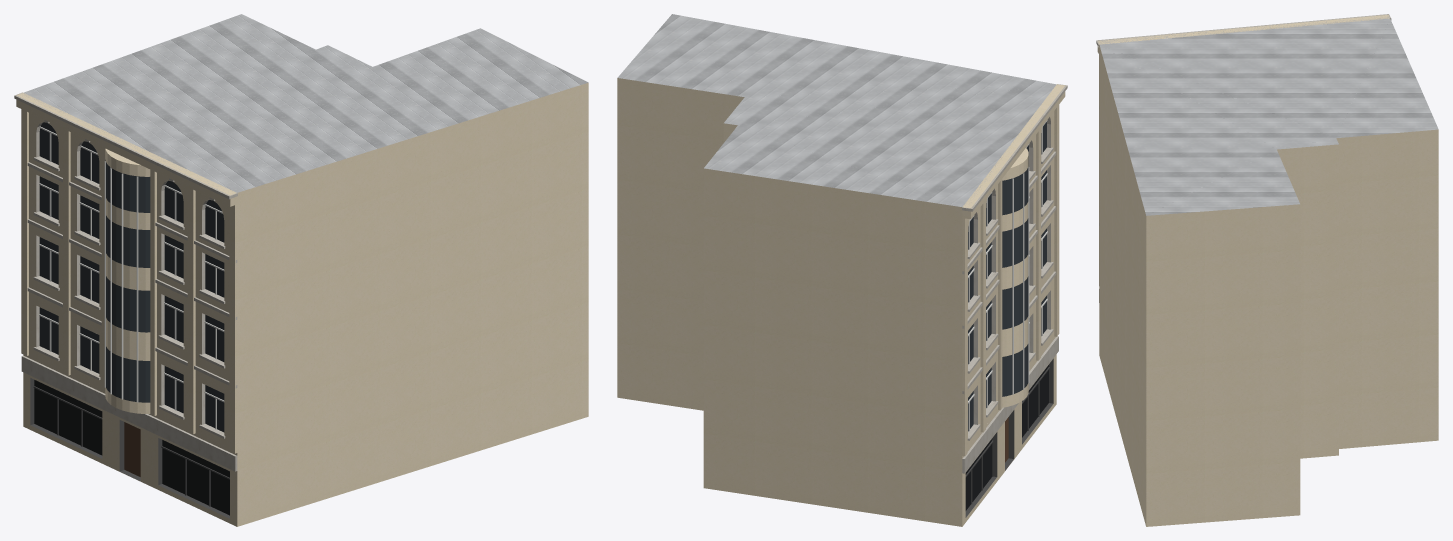
The picture shows the model from 3 angles, left to right: view 1: azimuth 30°, elevation 25°; view 2: azimuth 150°, elevation 25°; view 3: azimuth 270°, elevation 25°; orthographic projection. The views are drawn at different scales.
Visible parts, largest first — view 1: bldg_501410388_landmark; view 2: bldg_501410388_landmark; view 3: bldg_501410388_landmark.
Boxes of the visible parts, left/top/right/bottom form: bldg_501410388_landmark: left=14, top=14, right=588, bottom=526; bldg_501410388_landmark: left=617, top=14, right=1067, bottom=526; bldg_501410388_landmark: left=1096, top=14, right=1438, bottom=526.
Size of the model in its own units: 24.49 by 17.6 by 17.56.
Materials: 8 (3 with a texture image).
